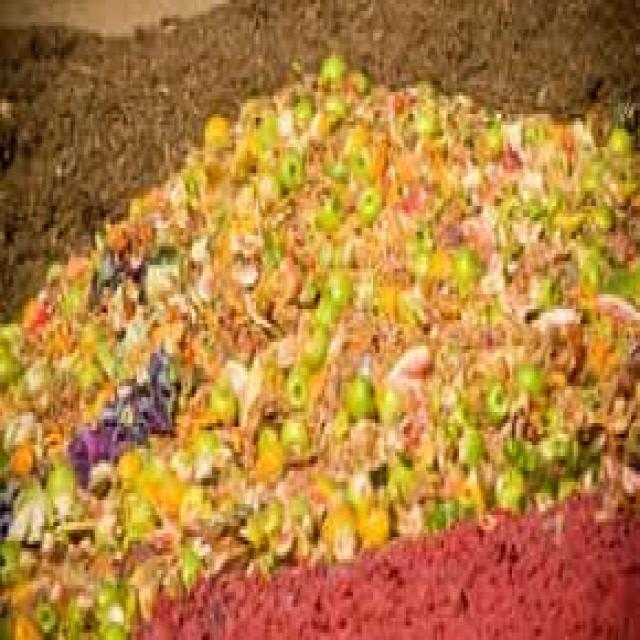food_waste: (213, 159, 588, 571), (10, 358, 625, 479)
